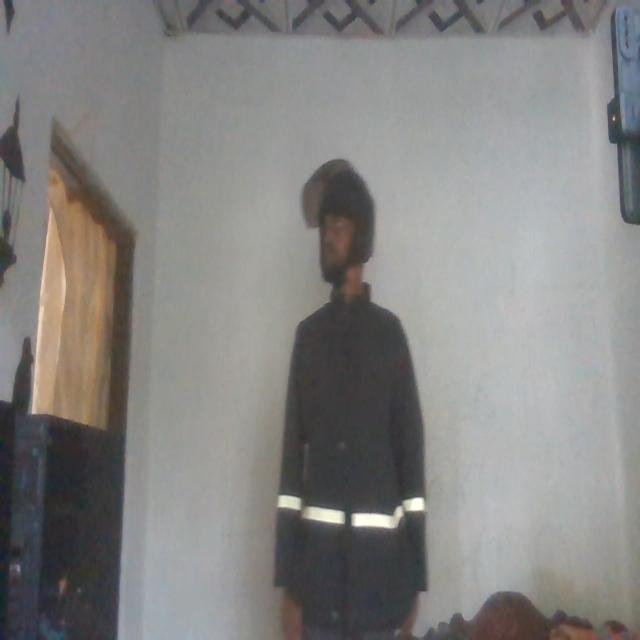Helmet_Wearer: (295, 152, 375, 284)
Jacket_Wearer: (278, 280, 426, 639)
Person: (281, 154, 429, 624)
